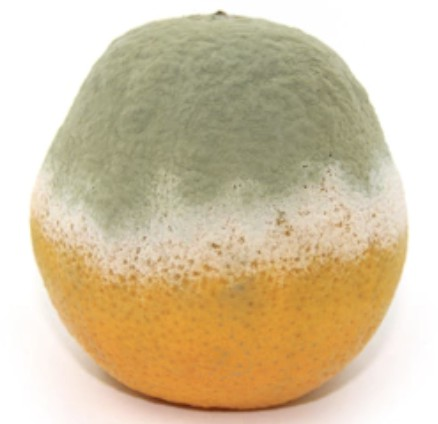rotten_orange: (29, 13, 409, 409)
